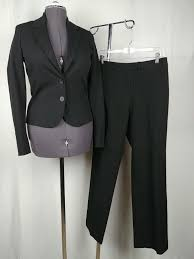F_W_suit jacket: (1, 10, 110, 157)
F_dress pants: (84, 52, 177, 256)
